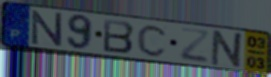9: (66, 13, 96, 52)
B: (102, 18, 136, 55)
C: (136, 23, 170, 58)
N: (209, 29, 246, 70), (30, 10, 64, 48)
Z: (179, 26, 211, 65)
